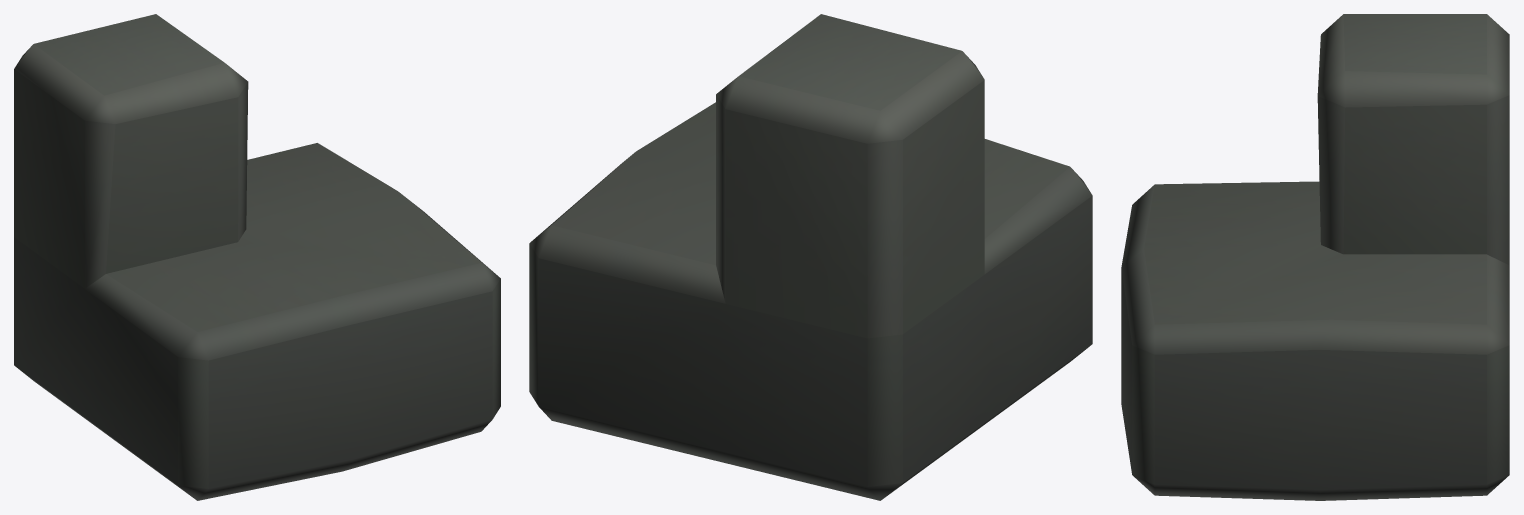
The model's file is stair_corner_conv_shade_5.fbx.
3 renders of one model, left to right at view 1: azimuth 30°, elevation 25°; view 2: azimuth 150°, elevation 25°; view 3: azimuth 270°, elevation 25°, orthographic. The views are drawn at different scales.
Visible parts, largest first — view 1: stair_corner_conv_shade_5; view 2: stair_corner_conv_shade_5; view 3: stair_corner_conv_shade_5.
Boxes of the visible parts, <box> form: stair_corner_conv_shade_5: <box>14,14,500,500</box>; stair_corner_conv_shade_5: <box>529,14,1092,500</box>; stair_corner_conv_shade_5: <box>1121,14,1509,500</box>.
Bounding box in the file's own units: 50.88 × 50.69 × 51.43.
